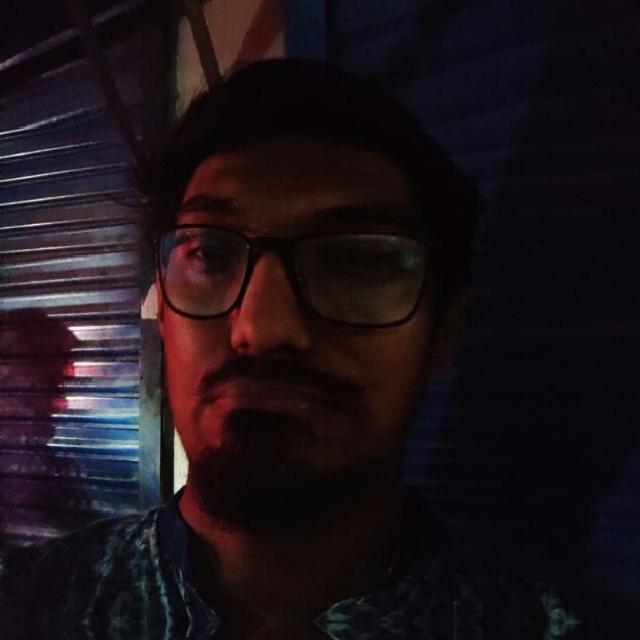sad: (144, 51, 477, 549)
